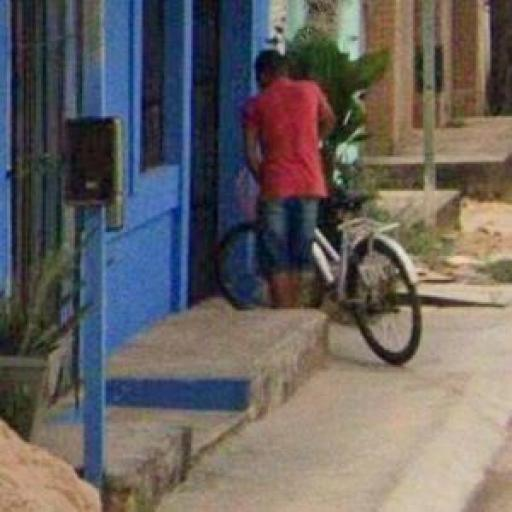bag: (216, 191, 422, 365)
crosswalk: (244, 50, 336, 307)
